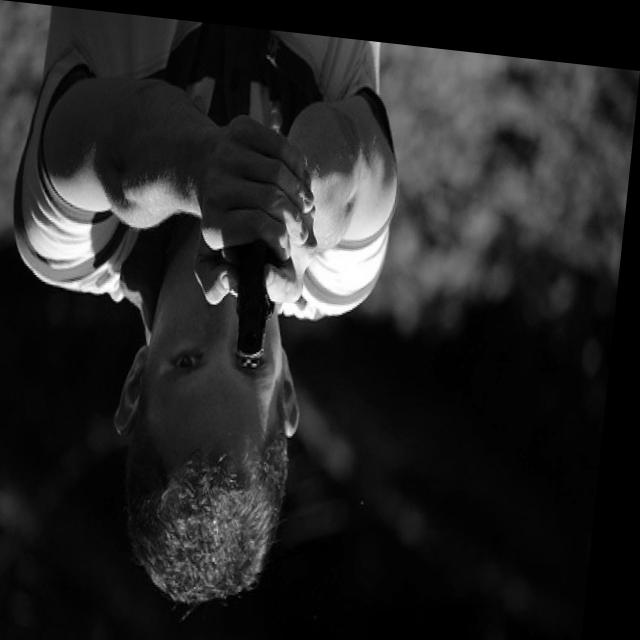handgun: (238, 235, 285, 364)
